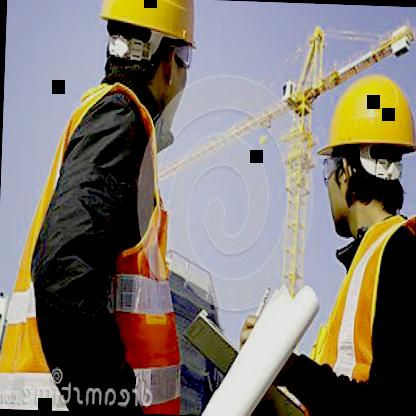helmet: (313, 54, 416, 241), (92, 0, 208, 129)
